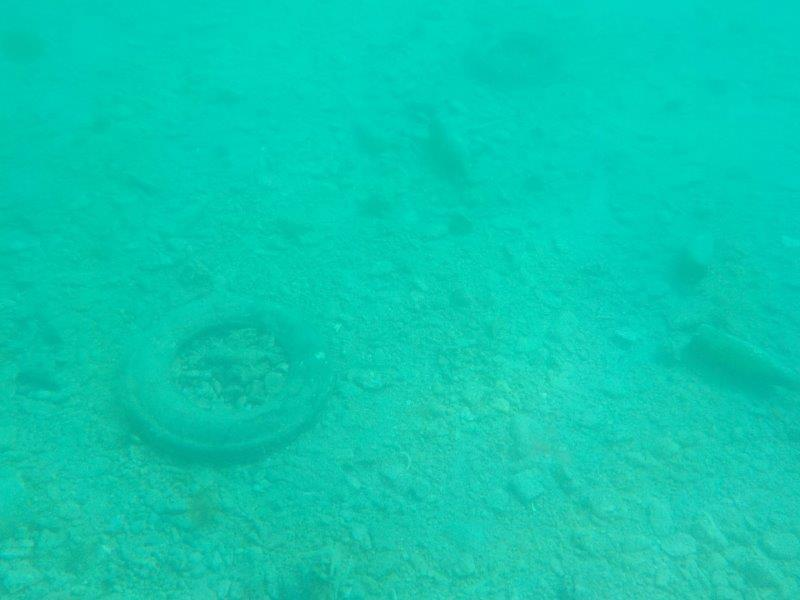bottle: (686, 315, 800, 400), (419, 111, 487, 196)
tire: (114, 286, 340, 466), (462, 14, 570, 92)
